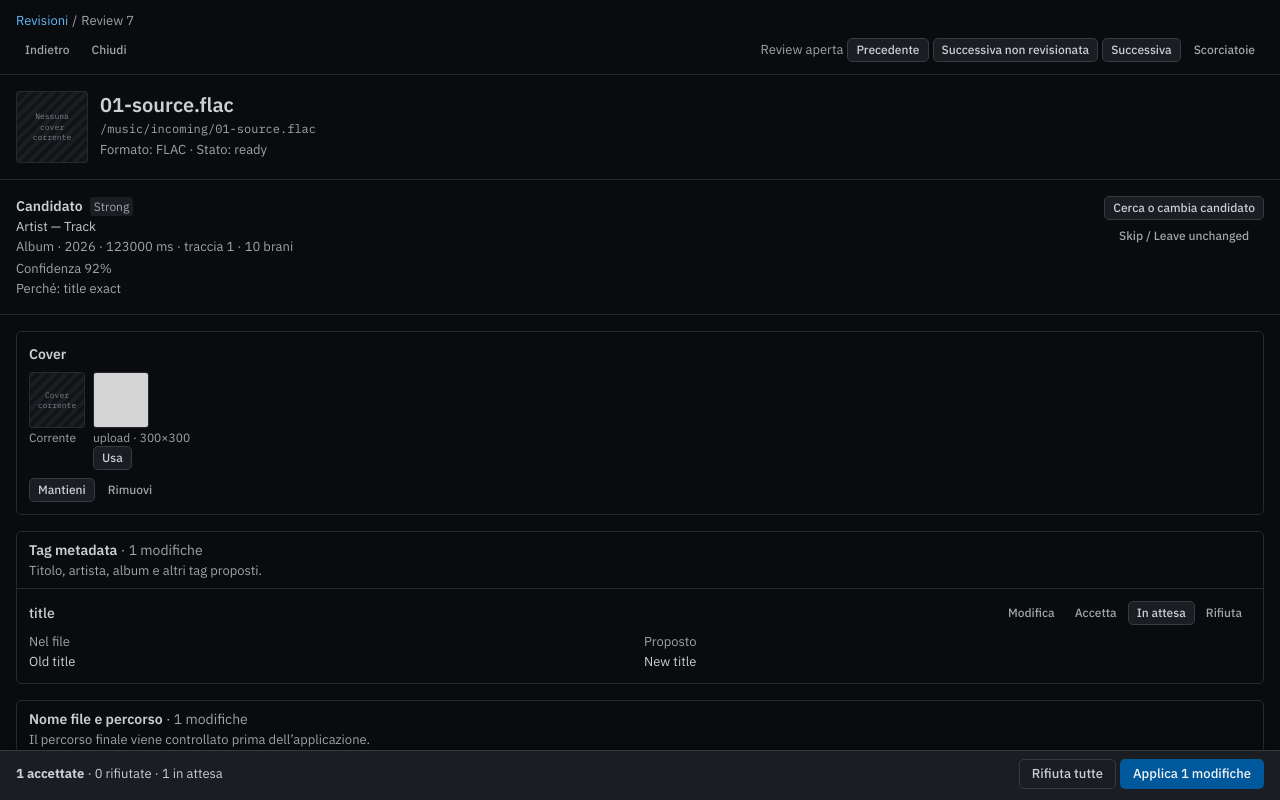
Test: ReviewDetail › requires Restare/Scartare when closing dirty editor via Annulla or Escape
expect the text "Old title" is shown: met, box [29, 653, 75, 670]
Click the button "Modifica" at [1031, 613], box [999, 601, 1064, 625]
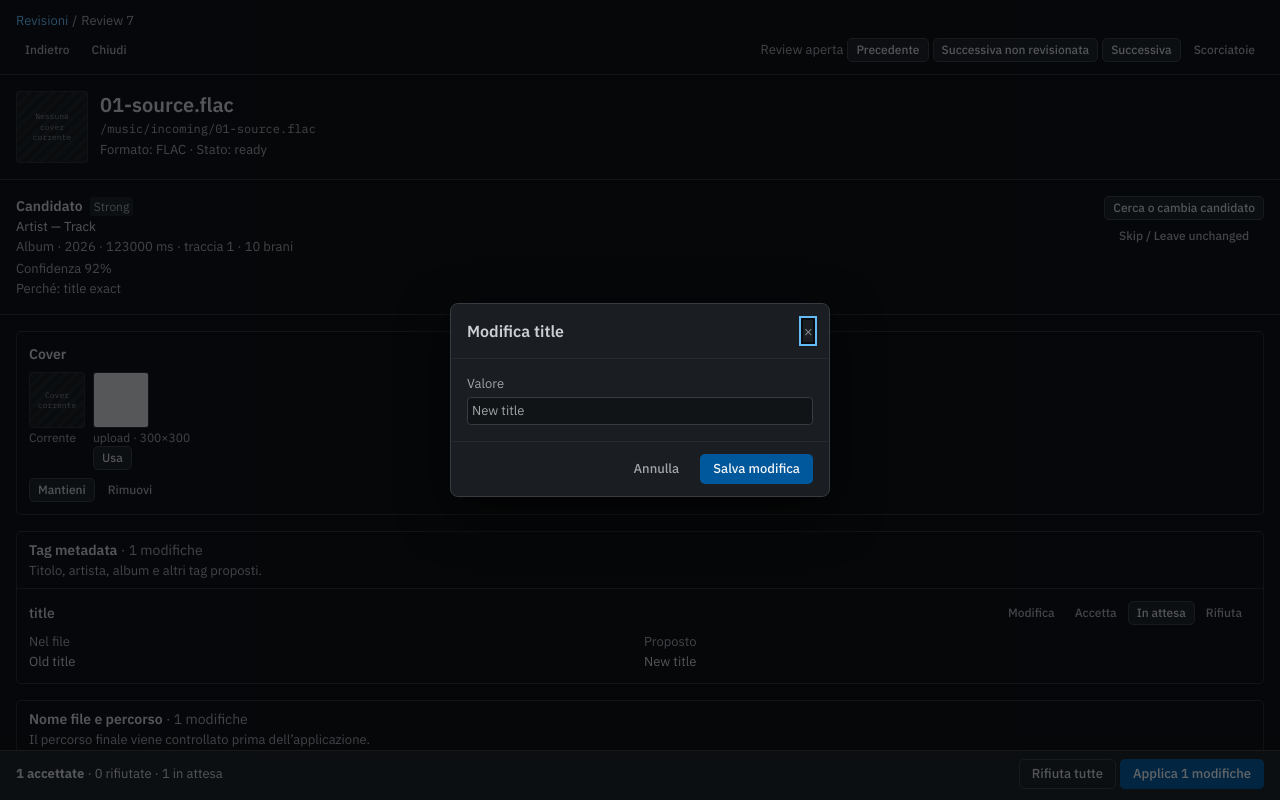
Replace the text in the field named "Valore tag" with "Dirty editor" at [640, 411], box [467, 397, 813, 425]
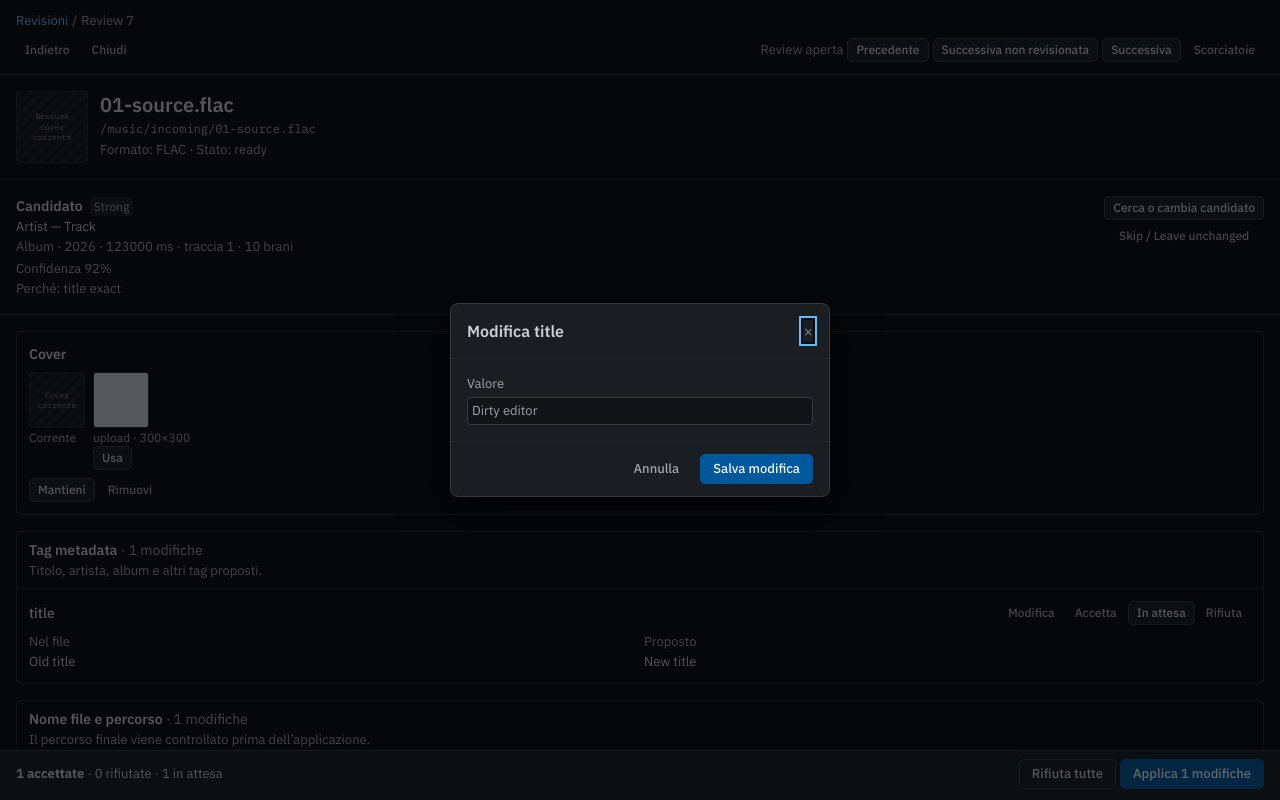
# Annulla (editor footer) must not implicitly close when dirty
Click the button "Annulla" at [656, 469], box [620, 454, 692, 484]
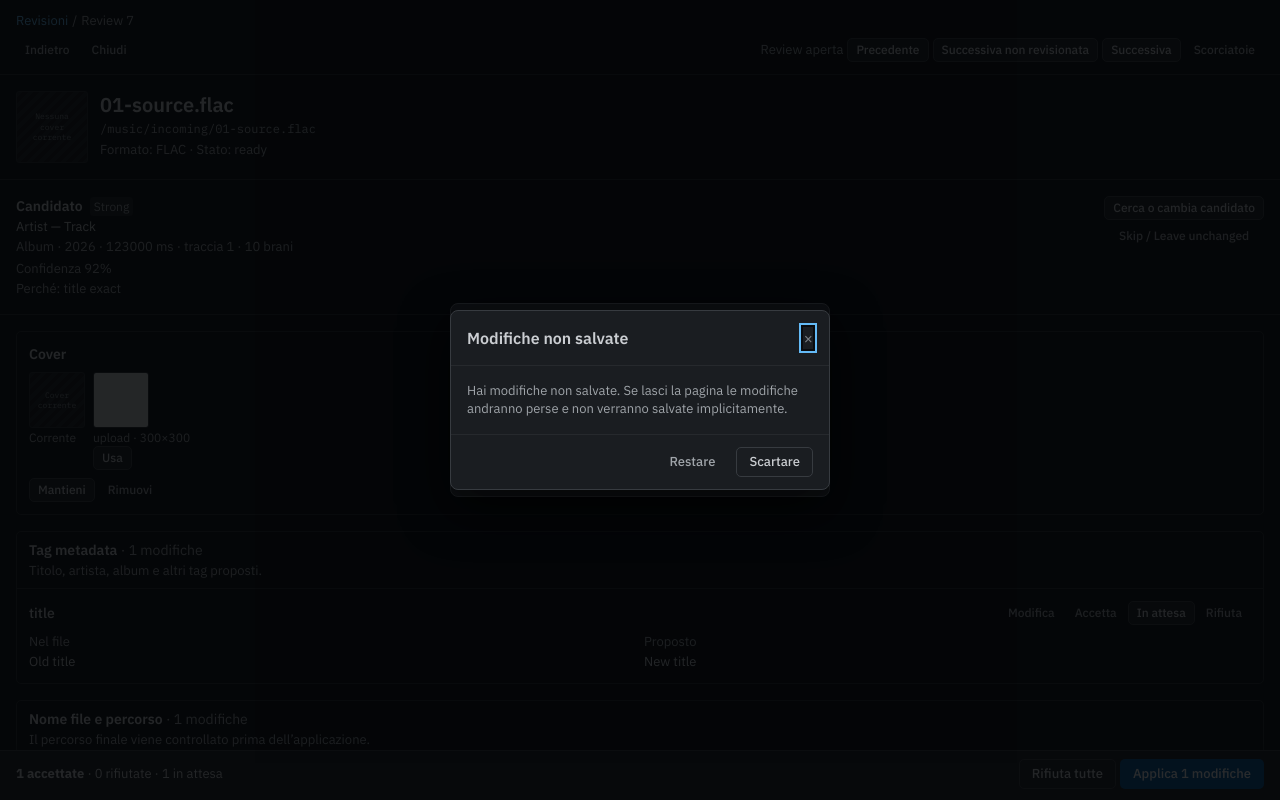
expect the dialog "Modifiche non salvate" is shown: met, box [450, 310, 830, 490]
# Restare keeps editor open with dirty value
Click the button "Restare" at [692, 462], box [656, 447, 728, 477]
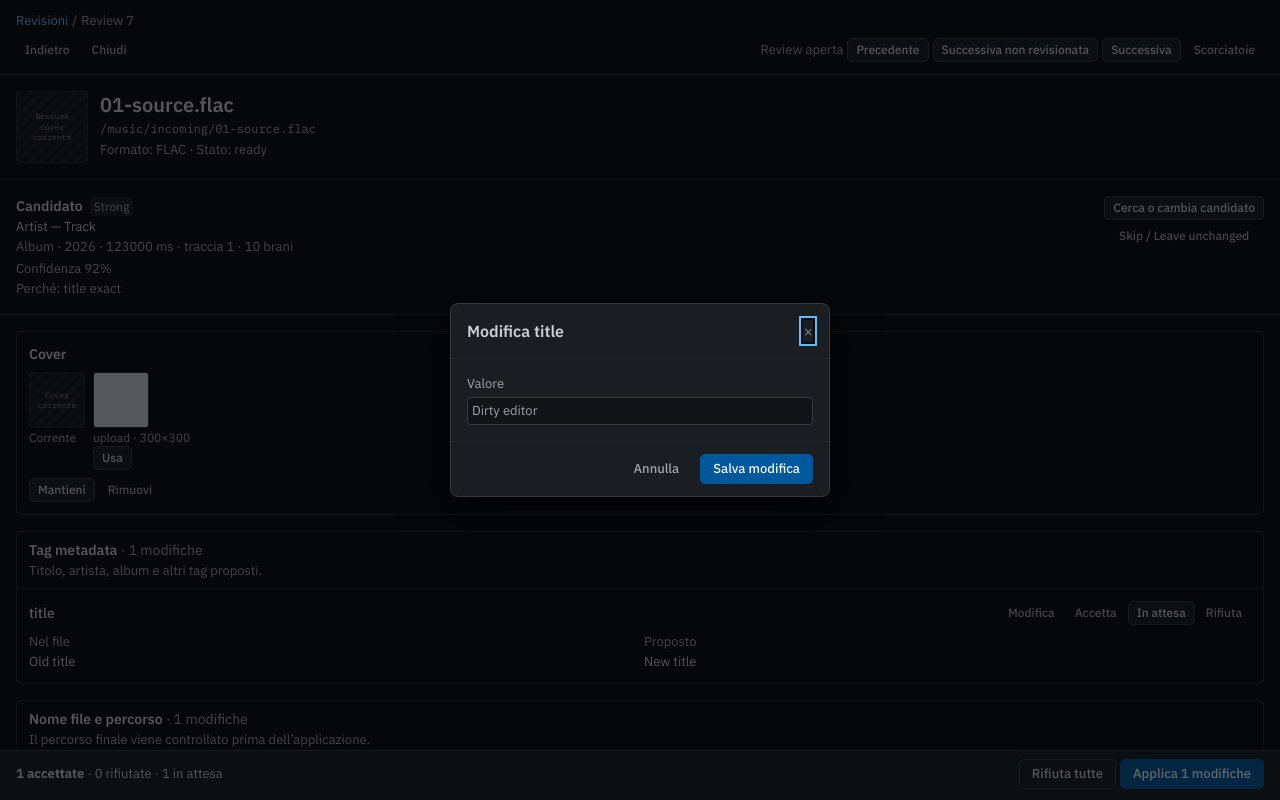
expect the text "Modifiche non salvate" is gone: met
# Escape on editor must also require explicit choice
Press Escape
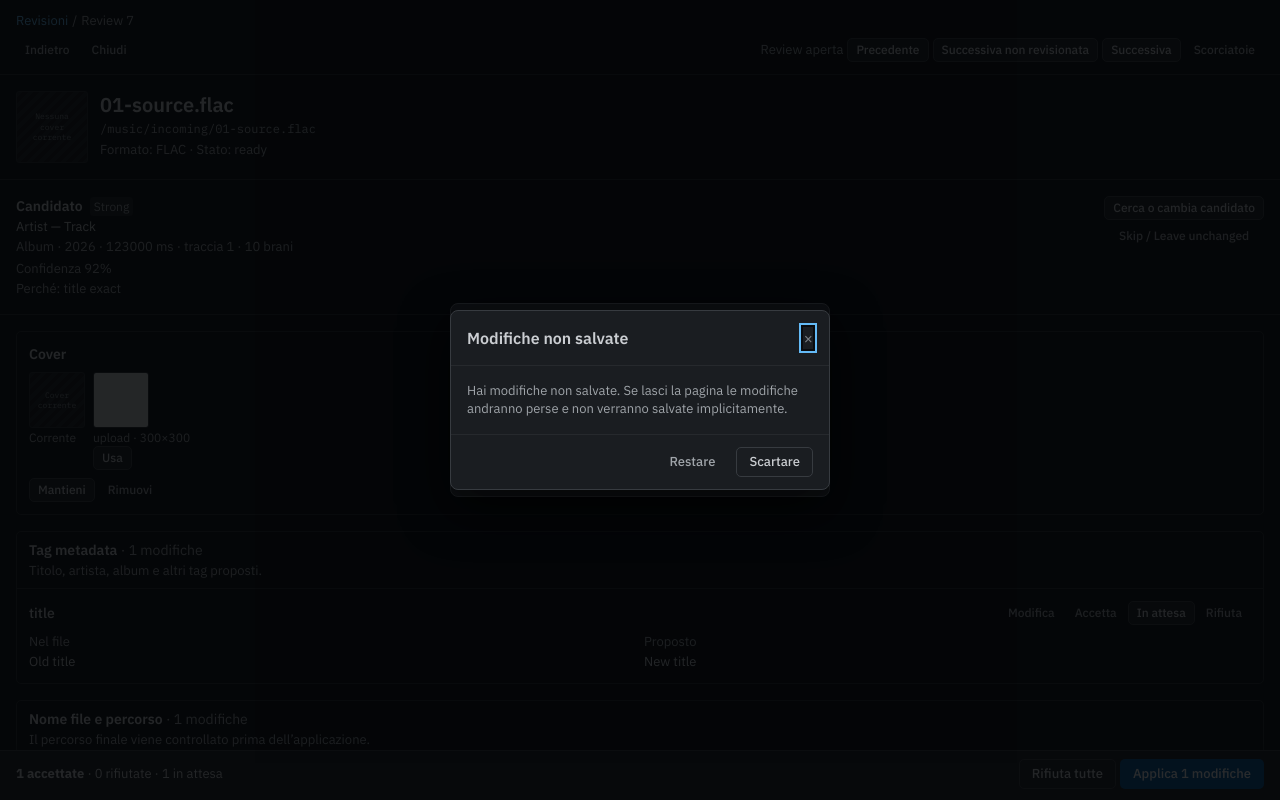
expect the dialog "Modifiche non salvate" is shown: met, box [450, 310, 830, 490]
Click the button "Scartare" at [775, 462], box [736, 447, 813, 477]
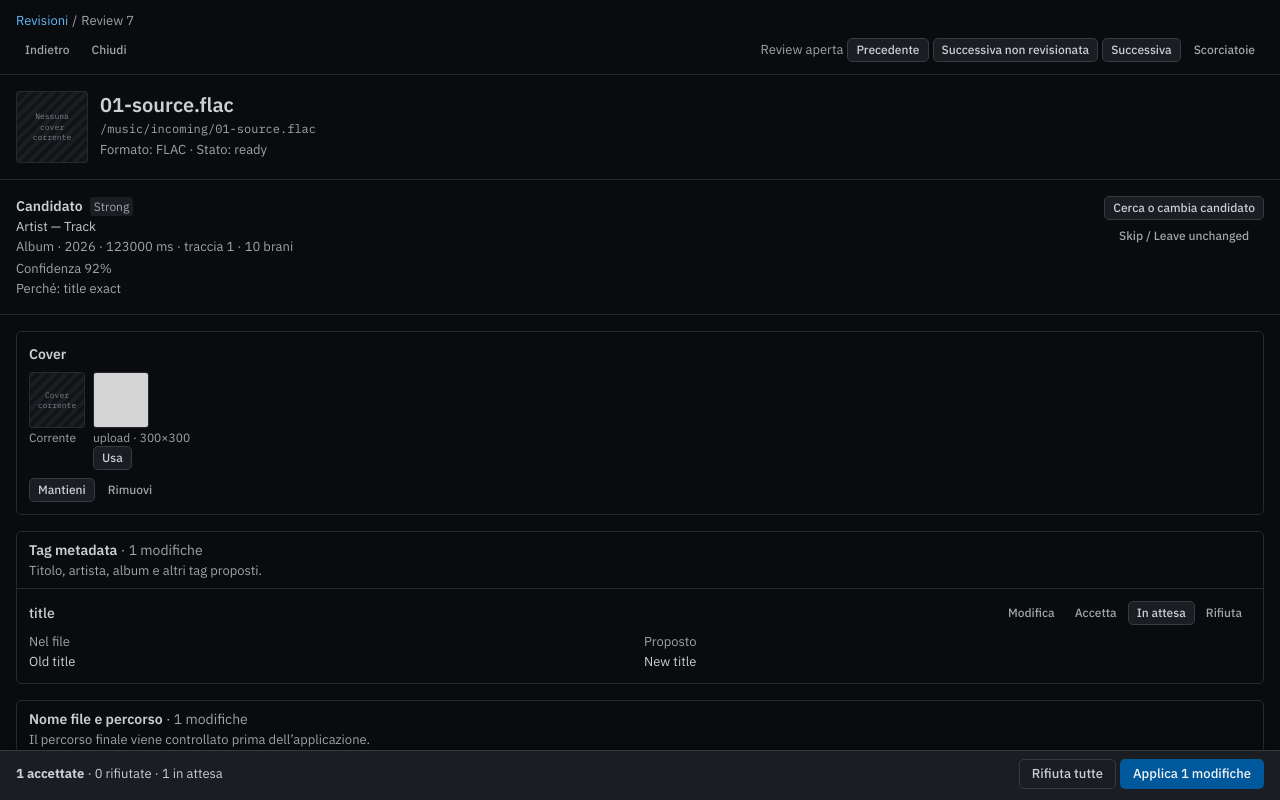
expect the field showing "Dirty editor" is not shown: met
expect the text "Modifica title" is gone: met
